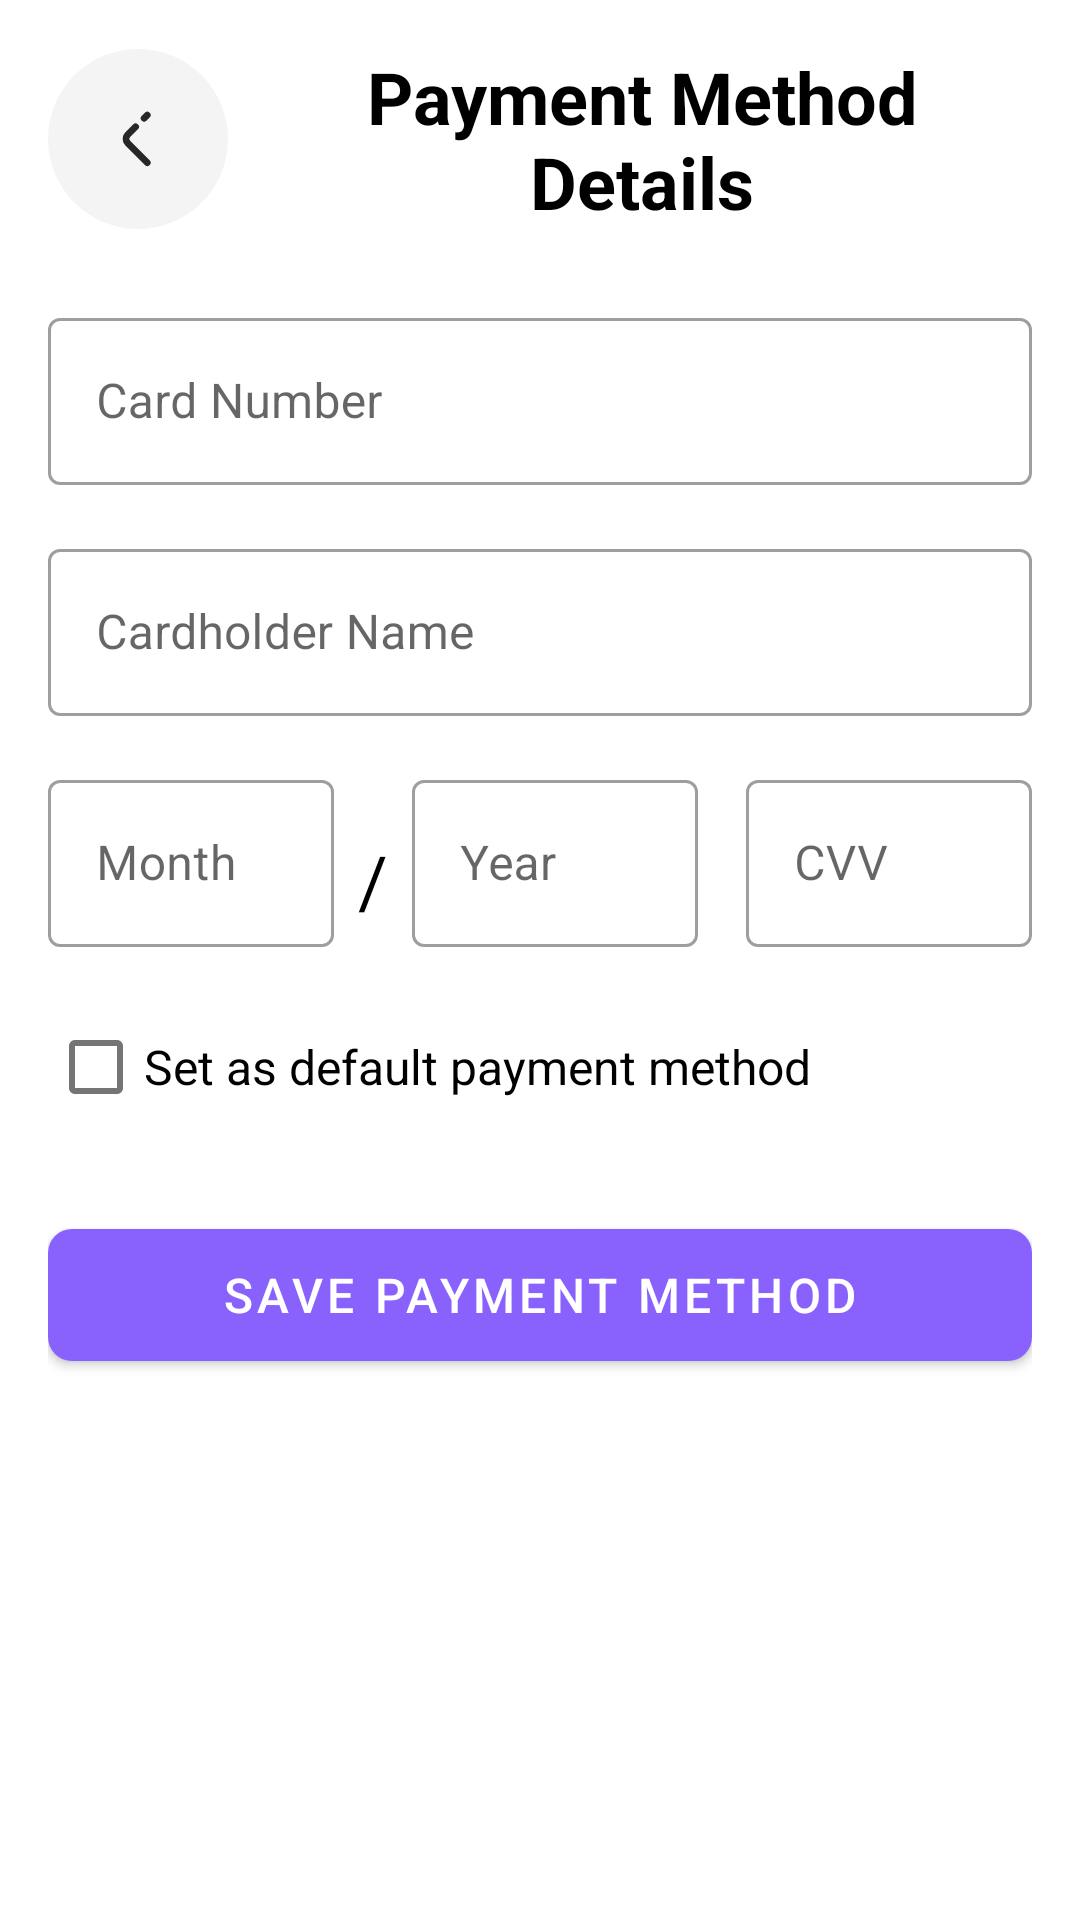

Icons on this 1080 × 1920 Android screen, each with the point to tap as point (x, y):
arrow back: point (138, 139)
